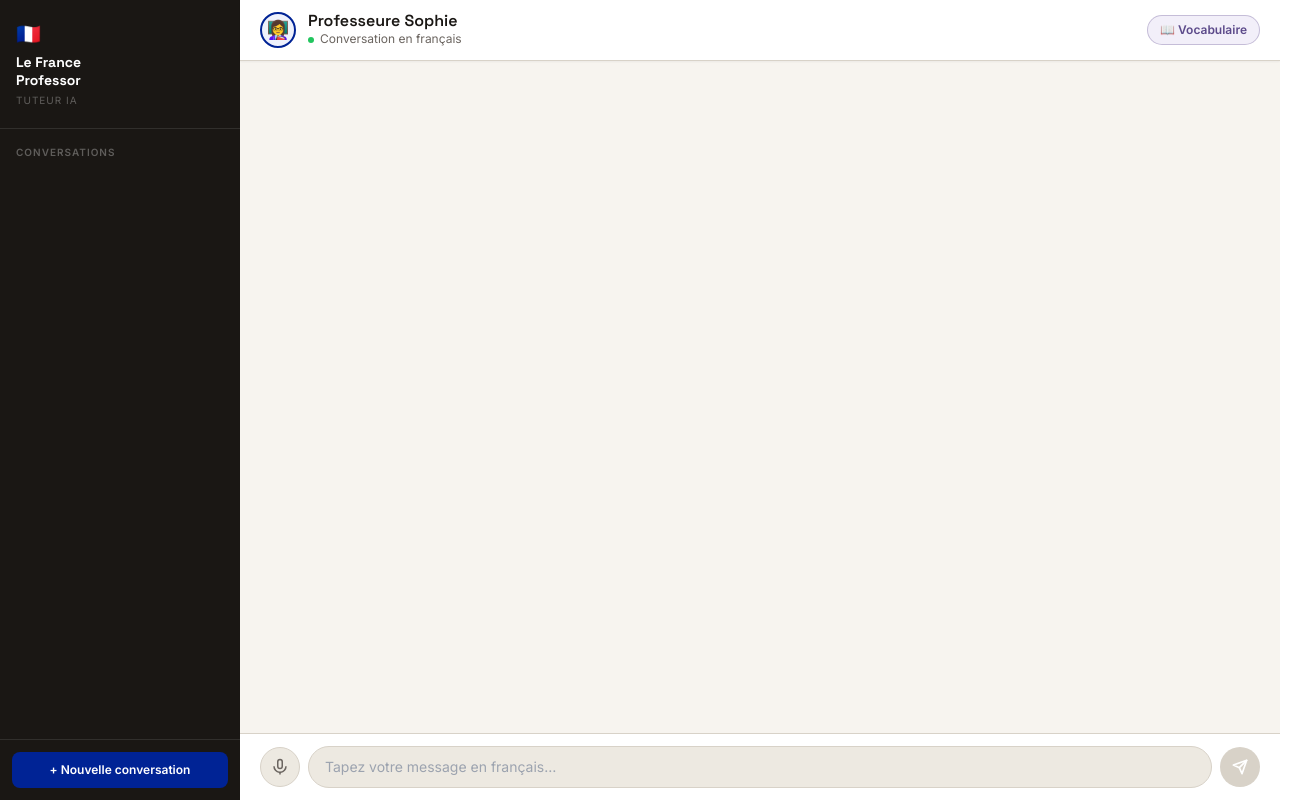
Test: ChatClient › /vocabulary slash command › shows autocomplete popup when user types /
Type "/" into the field at (760, 767), box [308,746,1212,788]
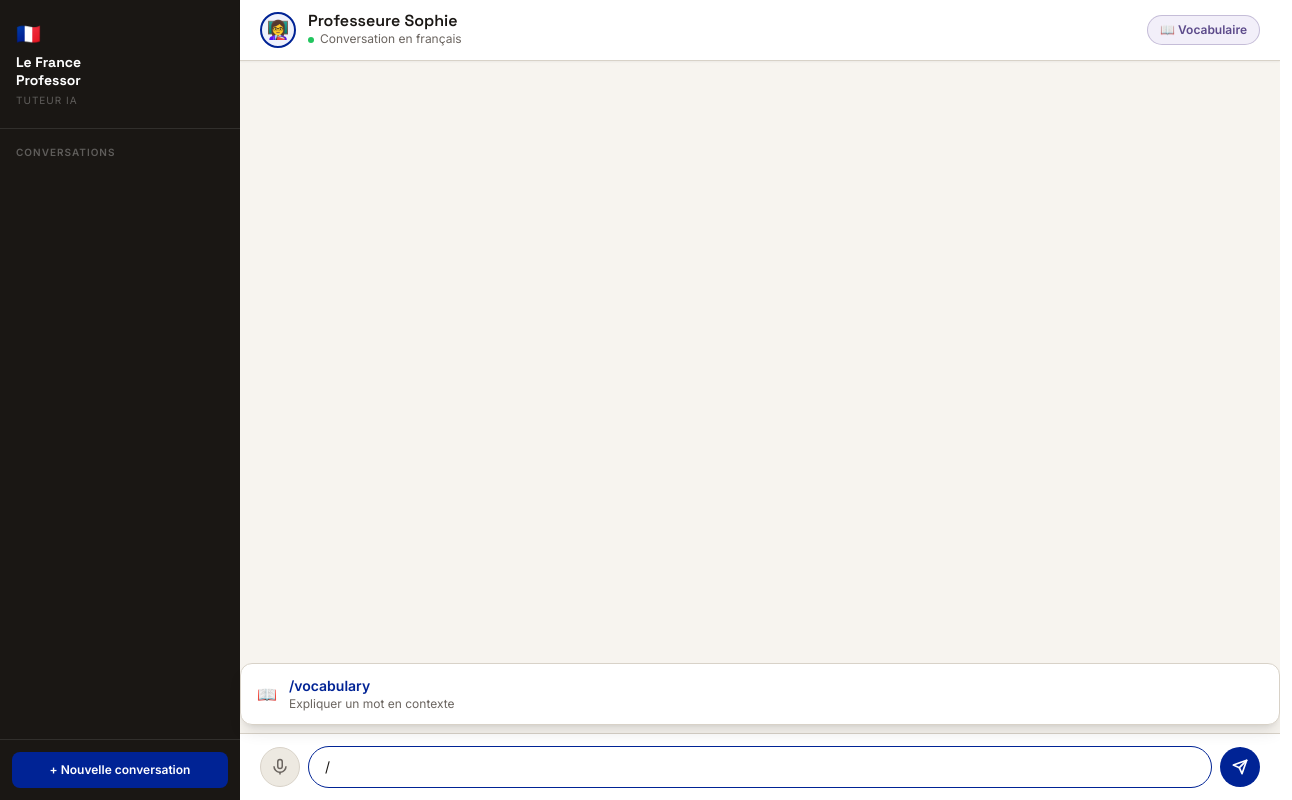
Expected: the text "/vocabulary" is shown, [289,677,370,694]
Expected: the text "Expliquer un mot en contexte" is shown, [289,696,455,712]
